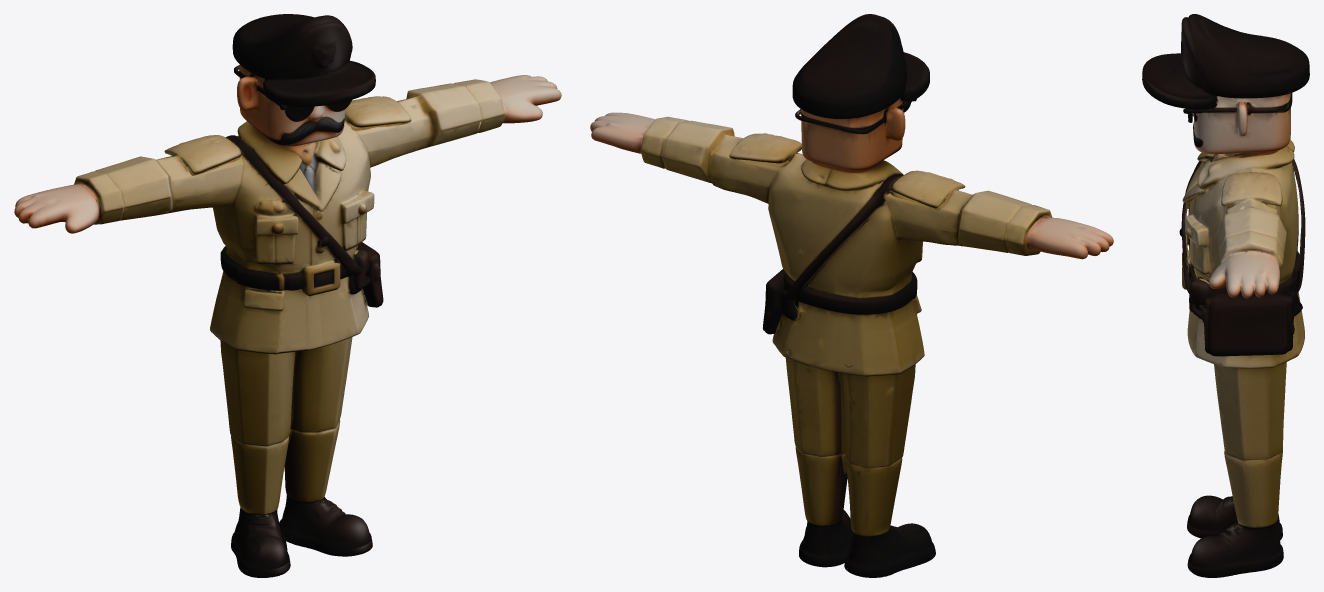
Rendered from general_tripo_tpose.fbx.
3 views of the same model, side by side, from view 1: azimuth 30°, elevation 25°; view 2: azimuth 150°, elevation 25°; view 3: azimuth 270°, elevation 25° (orthographic). The views are drawn at different scales.
Visible parts, largest first — view 1: tripo_node_d491d89e; view 2: tripo_node_d491d89e; view 3: tripo_node_d491d89e.
Boxes of the visible parts, x1,y1,x2,y2 form: tripo_node_d491d89e: (14,14,561,577); tripo_node_d491d89e: (590,14,1113,577); tripo_node_d491d89e: (1142,14,1309,577).
Bounding box in the file's own units: 100 × 27.7 × 97.28.
1 material, 1 textured.
